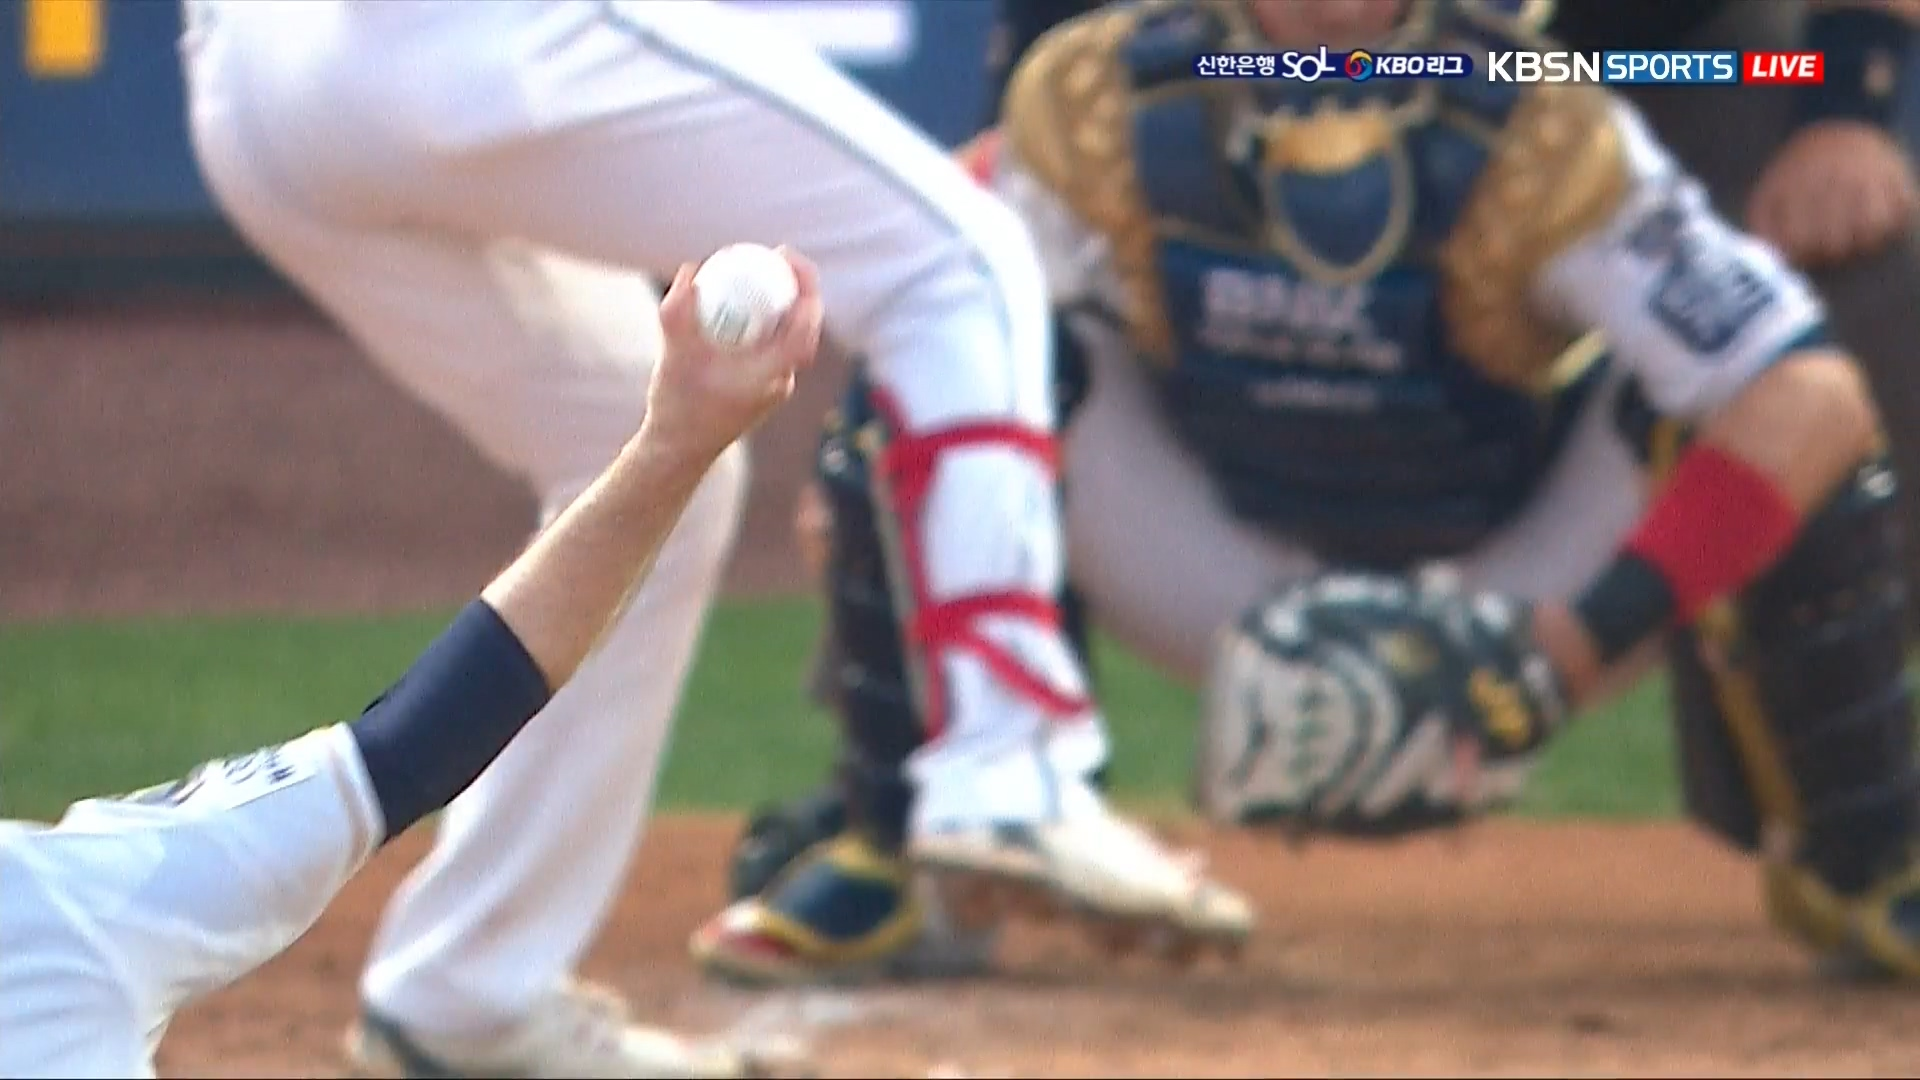zoomin_hand: (384, 218, 876, 771)
